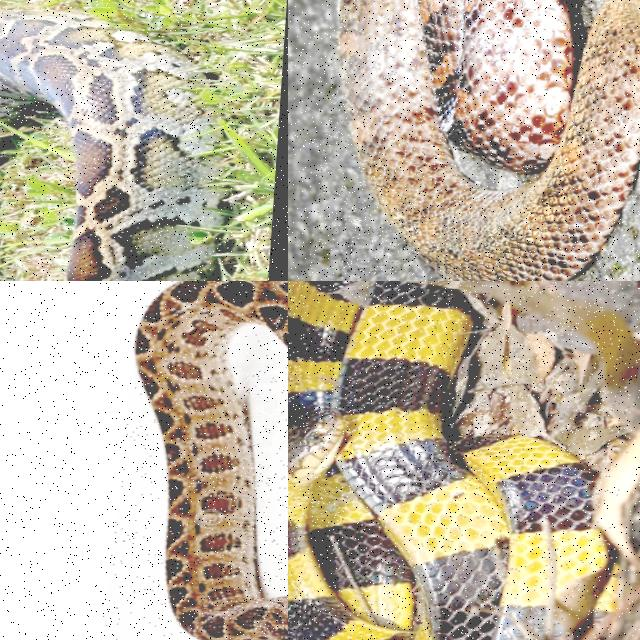Bungarus fasciatus: (288, 281, 608, 639)
Daboia siamensis: (135, 281, 287, 639)
Ovophis monticola: (339, 0, 639, 280)
Python bivittatus: (0, 12, 222, 280)
